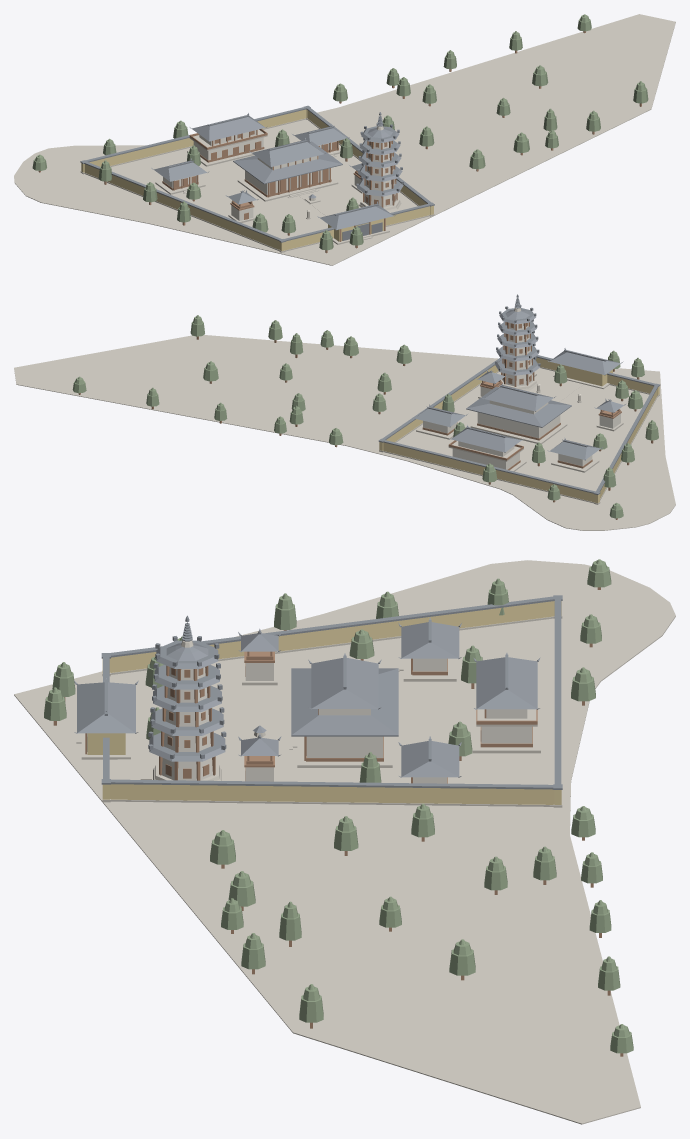
File: hanshansi.glb
The picture shows the model from 3 angles, top to bottom: view 1: azimuth 30°, elevation 25°; view 2: azimuth 150°, elevation 25°; view 3: azimuth 270°, elevation 25°; orthographic projection. The views are drawn at different scales.
Parts seen in each view (by area): view 1: hanshansi_stone, hanshansi_tile, hanshansi_leaf, hanshansi_wall_yellow, hanshansi_wood, hanshansi_wall_hall; view 2: hanshansi_stone, hanshansi_tile, hanshansi_leaf, hanshansi_wall_yellow, hanshansi_wall_hall, hanshansi_wood; view 3: hanshansi_stone, hanshansi_tile, hanshansi_leaf, hanshansi_wall_yellow, hanshansi_wall_hall, hanshansi_wood.
Boxes of the visible parts, left/top/right/bottom form: hanshansi_stone: left=14, top=14, right=675, bottom=265; hanshansi_tile: left=80, top=105, right=434, bottom=242; hanshansi_leaf: left=32, top=14, right=648, bottom=250; hanshansi_wall_yellow: left=81, top=109, right=433, bottom=251; hanshansi_wood: left=38, top=31, right=641, bottom=253; hanshansi_wall_hall: left=163, top=130, right=396, bottom=220; hanshansi_stone: left=14, top=308, right=675, bottom=530; hanshansi_tile: left=378, top=294, right=660, bottom=494; hanshansi_leaf: left=72, top=315, right=658, bottom=518; hanshansi_wall_yellow: left=379, top=357, right=659, bottom=503; hanshansi_wall_hall: left=423, top=323, right=620, bottom=469; hanshansi_wood: left=78, top=322, right=653, bottom=519; hanshansi_stone: left=14, top=560, right=675, bottom=1124; hanshansi_tile: left=74, top=595, right=562, bottom=789; hanshansi_leaf: left=44, top=559, right=633, bottom=1053; hanshansi_wall_yellow: left=87, top=601, right=561, bottom=804; hanshansi_wall_hall: left=161, top=658, right=532, bottom=783; hanshansi_wood: left=53, top=587, right=623, bottom=1056.
Size of the model in its own units: 313 by 42.05 by 155.
